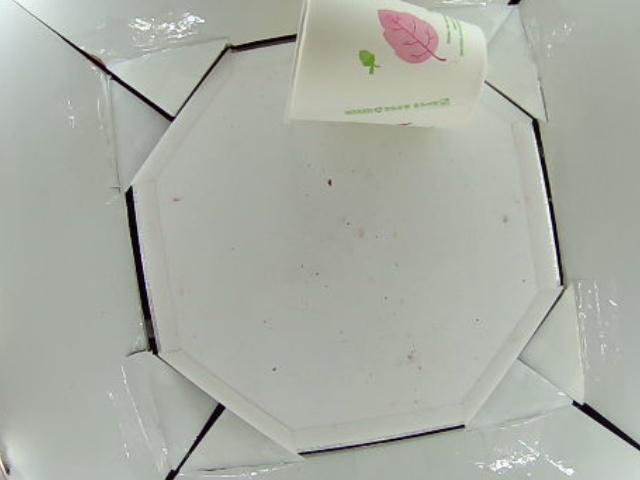Cup: (285, 1, 489, 127)
